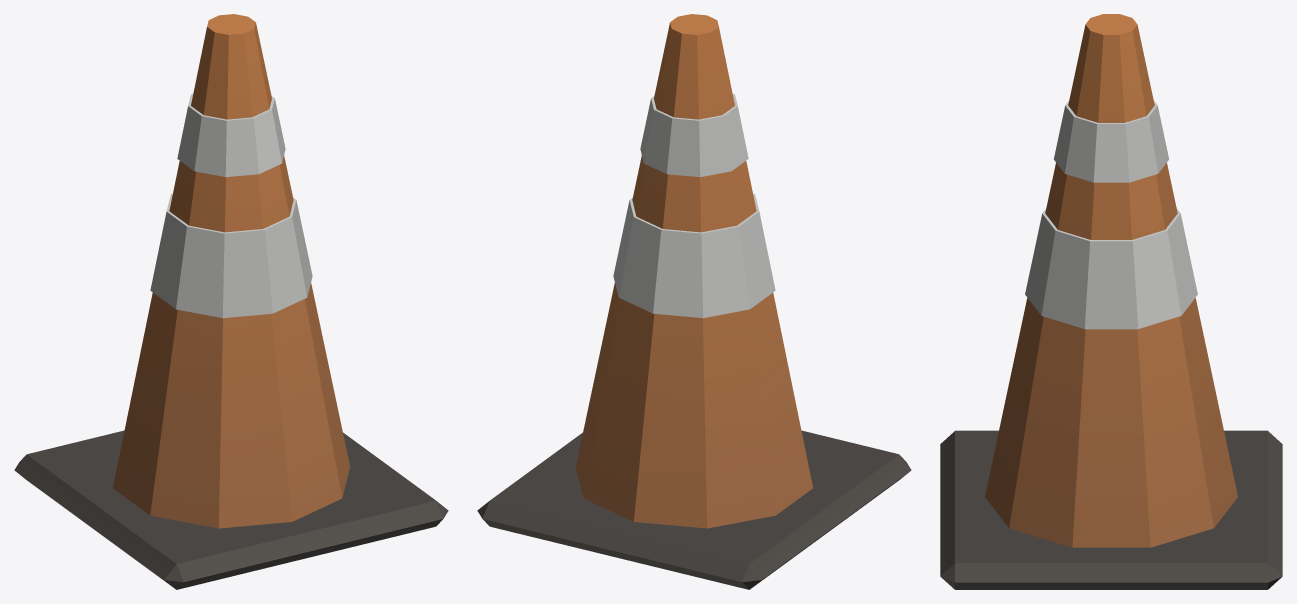
The picture shows the model from 3 angles, left to right: view 1: azimuth 30°, elevation 25°; view 2: azimuth 150°, elevation 25°; view 3: azimuth 270°, elevation 25°; orthographic projection. The views are drawn at different scales.
Parts seen in each view (by area): view 1: cone; view 2: cone; view 3: cone.
Part boxes in pixels (left/top/right/bottom): cone: left=14, top=14, right=448, bottom=589; cone: left=477, top=14, right=911, bottom=589; cone: left=940, top=14, right=1282, bottom=589.
Size of the model in its own units: 0.46 by 0.74 by 0.46.
